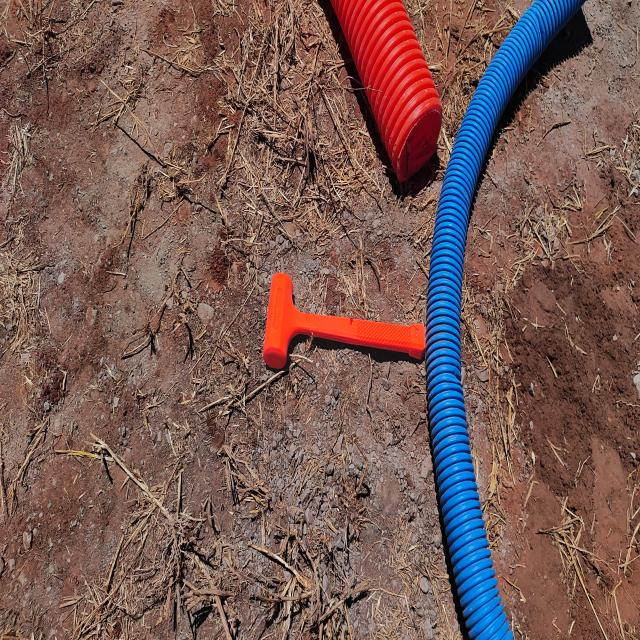Orange_hammer: (262, 270, 426, 371)
